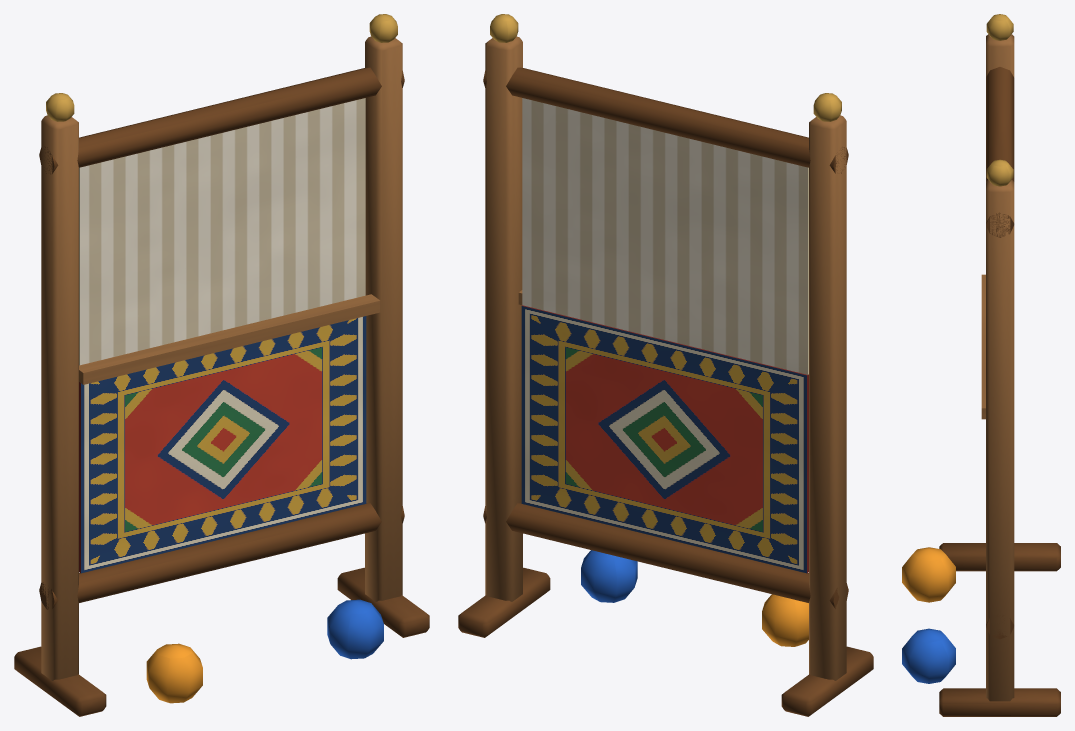
File: prop_loom.glb
The picture shows the model from 3 angles, left to right: view 1: azimuth 30°, elevation 25°; view 2: azimuth 150°, elevation 25°; view 3: azimuth 270°, elevation 25°; orthographic projection. The views are drawn at different scales.
Parts seen in each view (by area): view 1: prop_loom; view 2: prop_loom; view 3: prop_loom.
Boxes of the visible parts, x1,y1,x2,y2 form: prop_loom: (14,14,429,716); prop_loom: (458,14,873,716); prop_loom: (902,14,1060,716).
Bounding box in the file's own units: 1.86 × 3 × 0.7831.
1 material, 1 textured.
